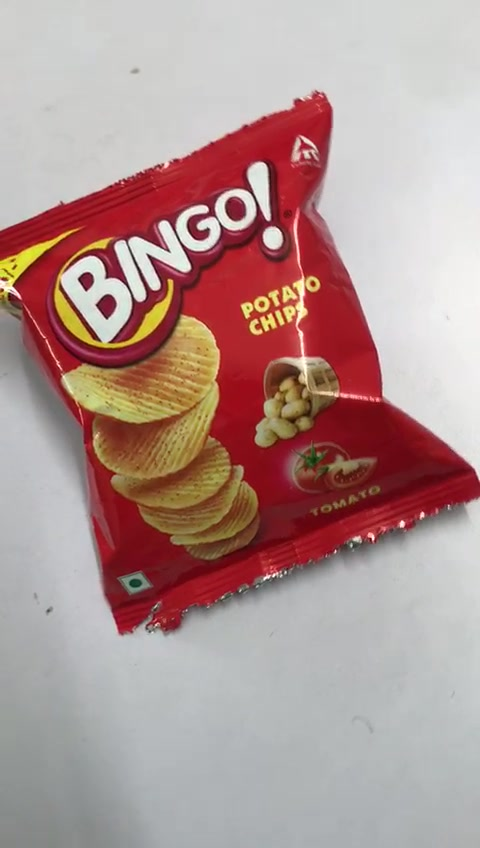bingo: (4, 91, 479, 617)
